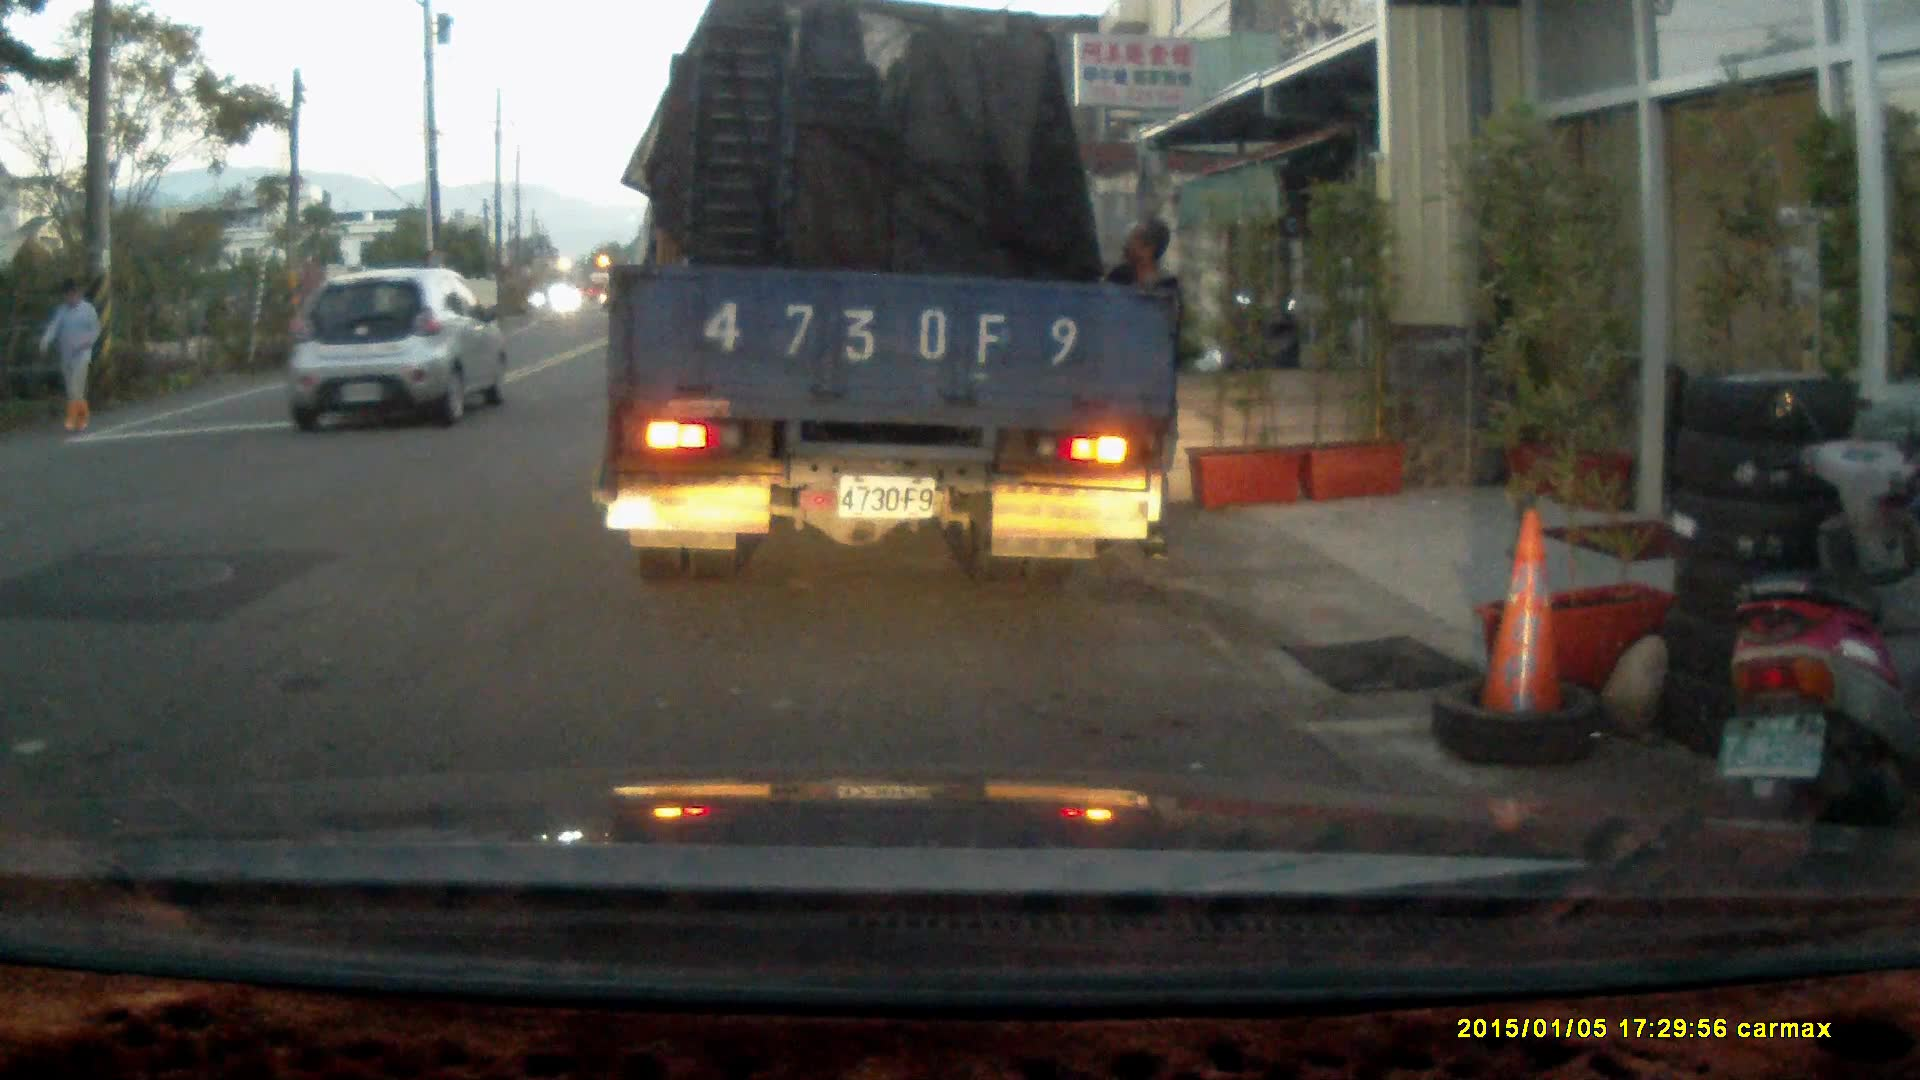pedestrian: (1086, 213, 1188, 566), (31, 277, 100, 430)
vehicle: (602, 23, 1186, 572), (286, 265, 512, 426)
